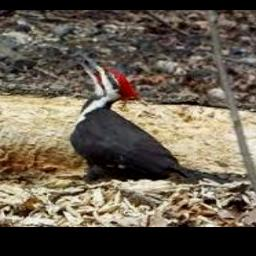Woodpecker: (69, 54, 233, 184)
